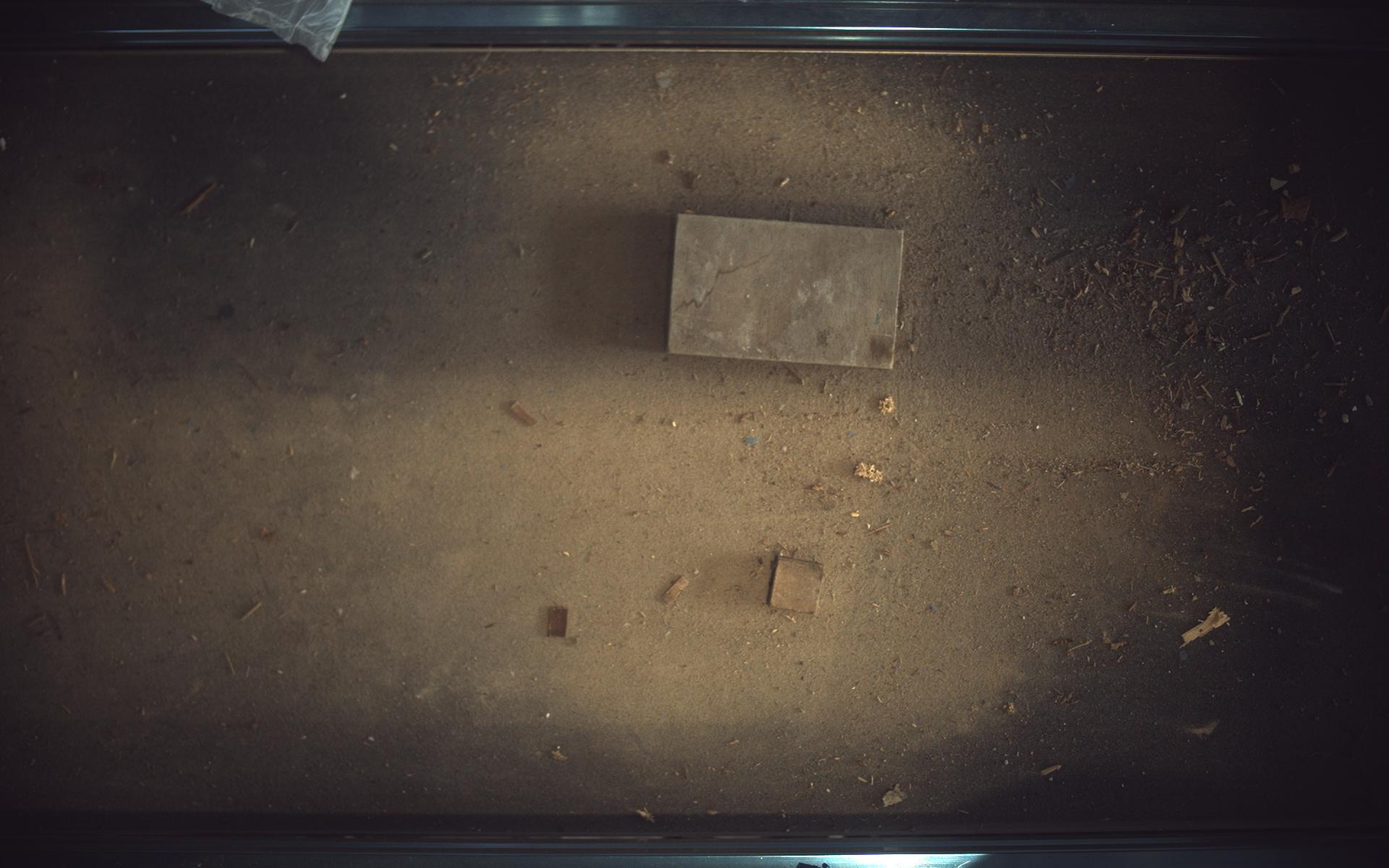wood: (668, 214, 906, 369), (771, 556, 825, 613)
